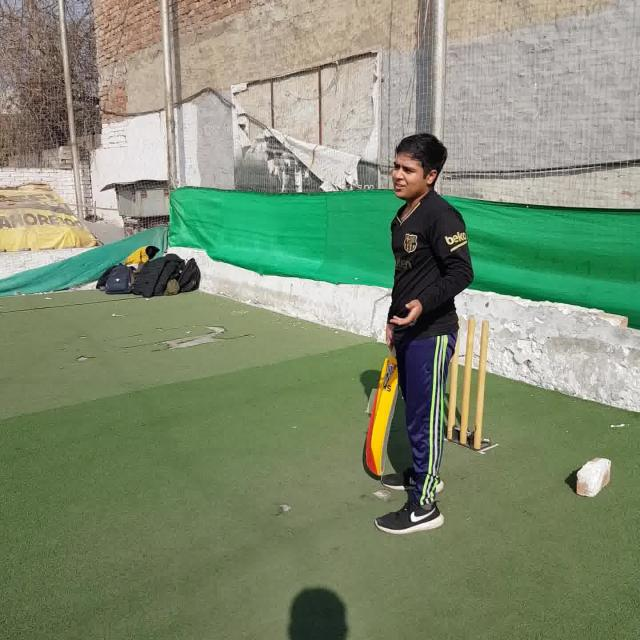bat: (363, 344, 399, 474)
